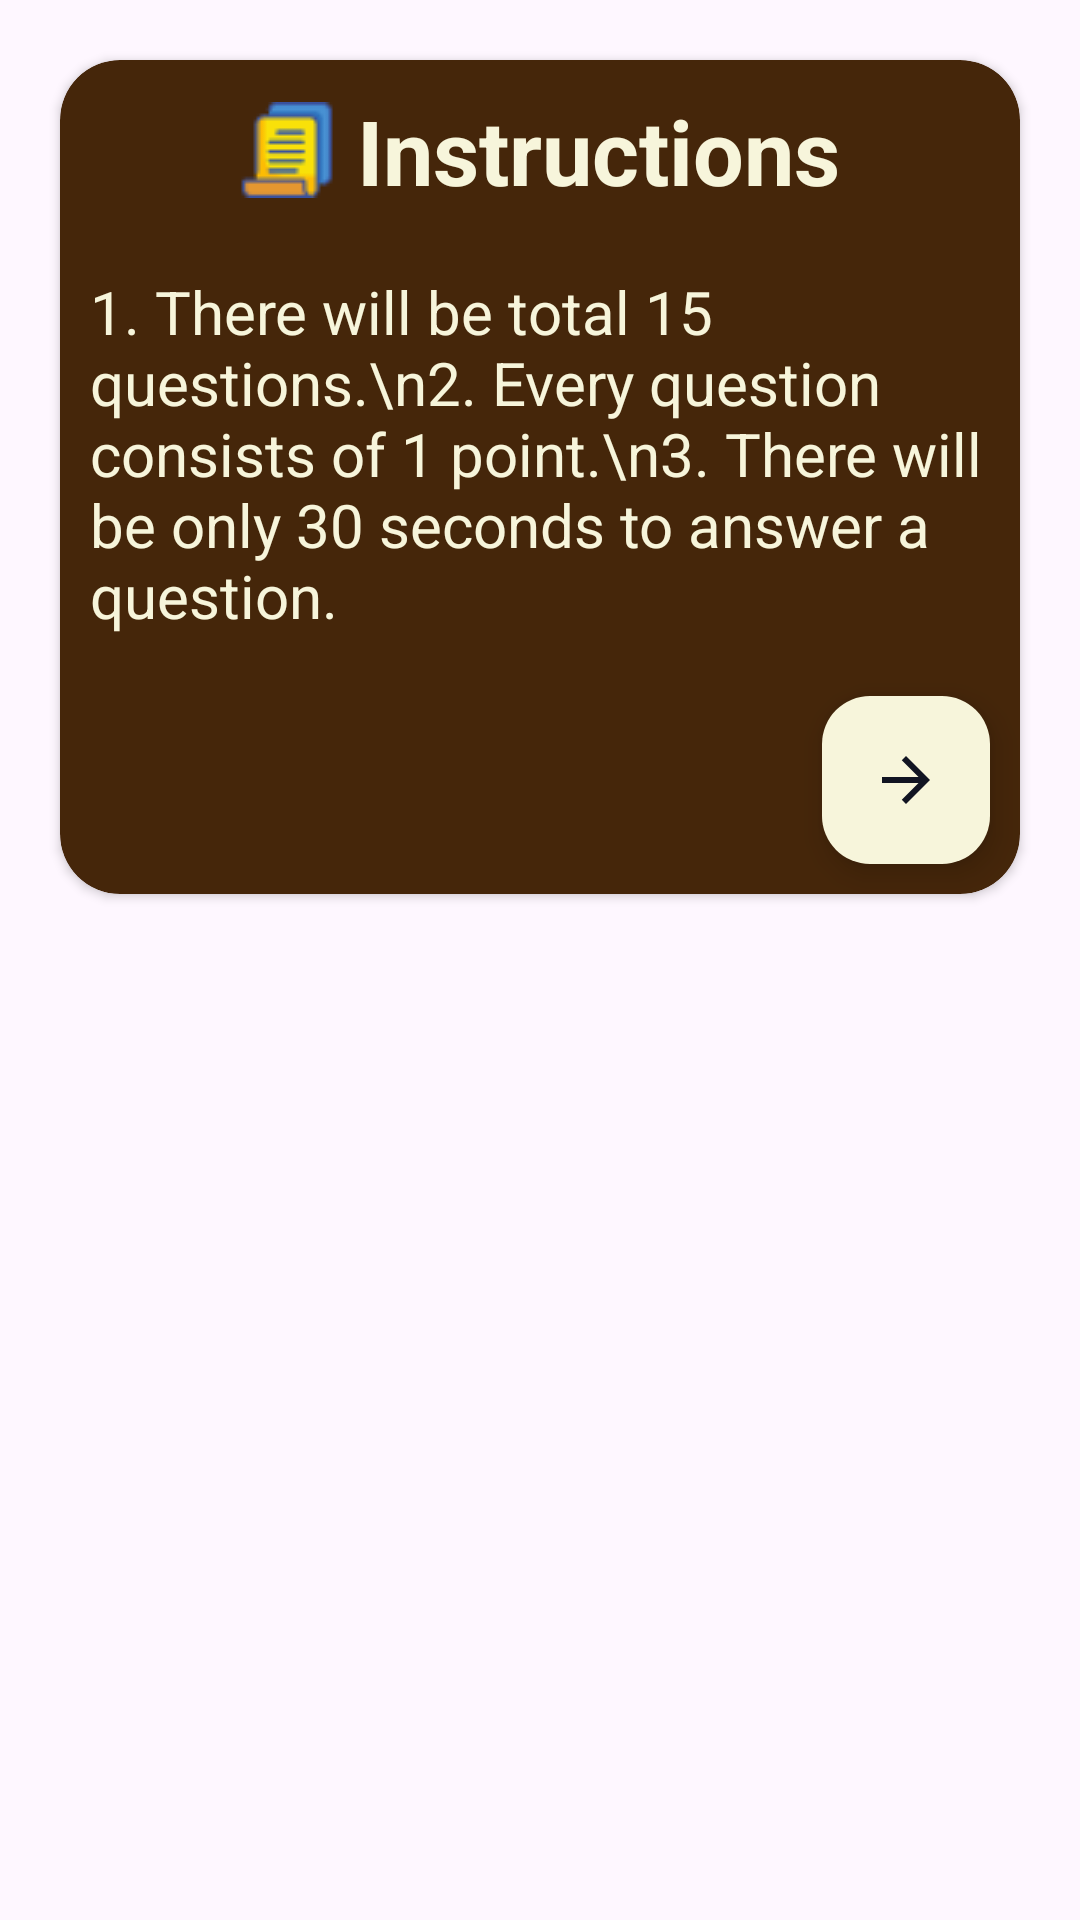

Screen size 1080px x 1920px. Icon name, then its box in pixels as (x1, y1, x2, y2):
arrow forward: (822, 696, 990, 864)
